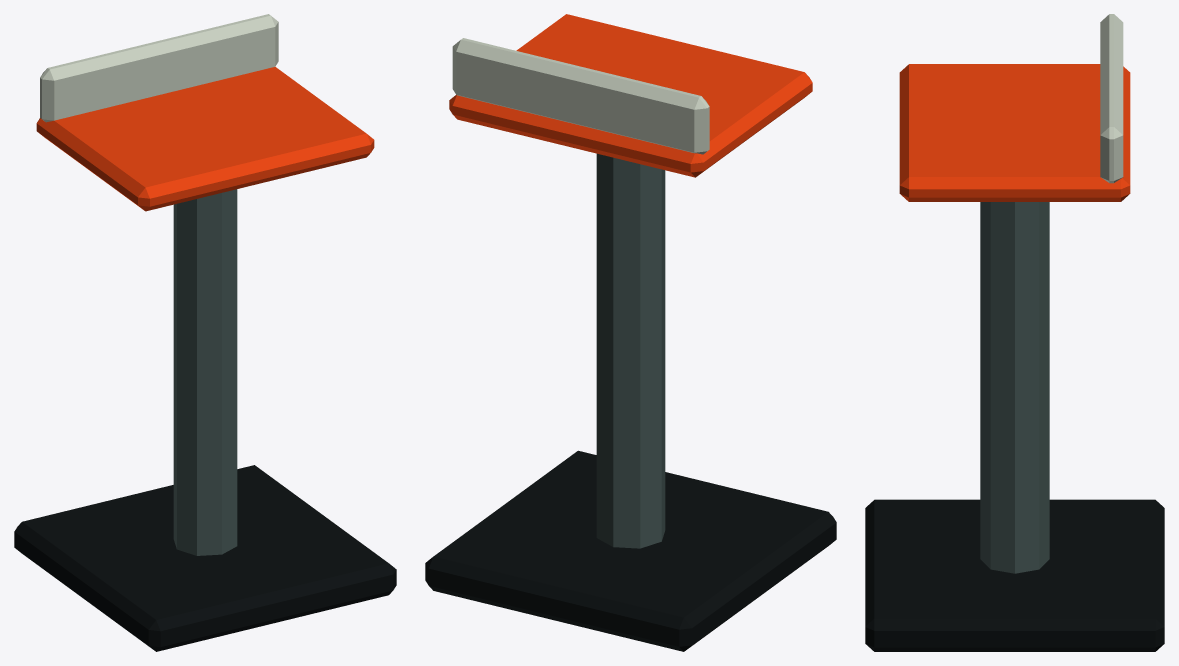
File: SM_MP_Log_Pedestal.fbx
3 views of the same model, side by side, from view 1: azimuth 30°, elevation 25°; view 2: azimuth 150°, elevation 25°; view 3: azimuth 270°, elevation 25° (orthographic). The views are drawn at different scales.
Visible parts, largest first — view 1: SM_MP_Log_Pedestal; view 2: SM_MP_Log_Pedestal; view 3: SM_MP_Log_Pedestal.
Part boxes in pixels (left/top/right/bottom): SM_MP_Log_Pedestal: left=14, top=14, right=396, bottom=651; SM_MP_Log_Pedestal: left=425, top=14, right=836, bottom=651; SM_MP_Log_Pedestal: left=865, top=14, right=1164, bottom=651.
Bounding box in the file's own units: 65 × 65 × 125.
1 material, 1 textured.
